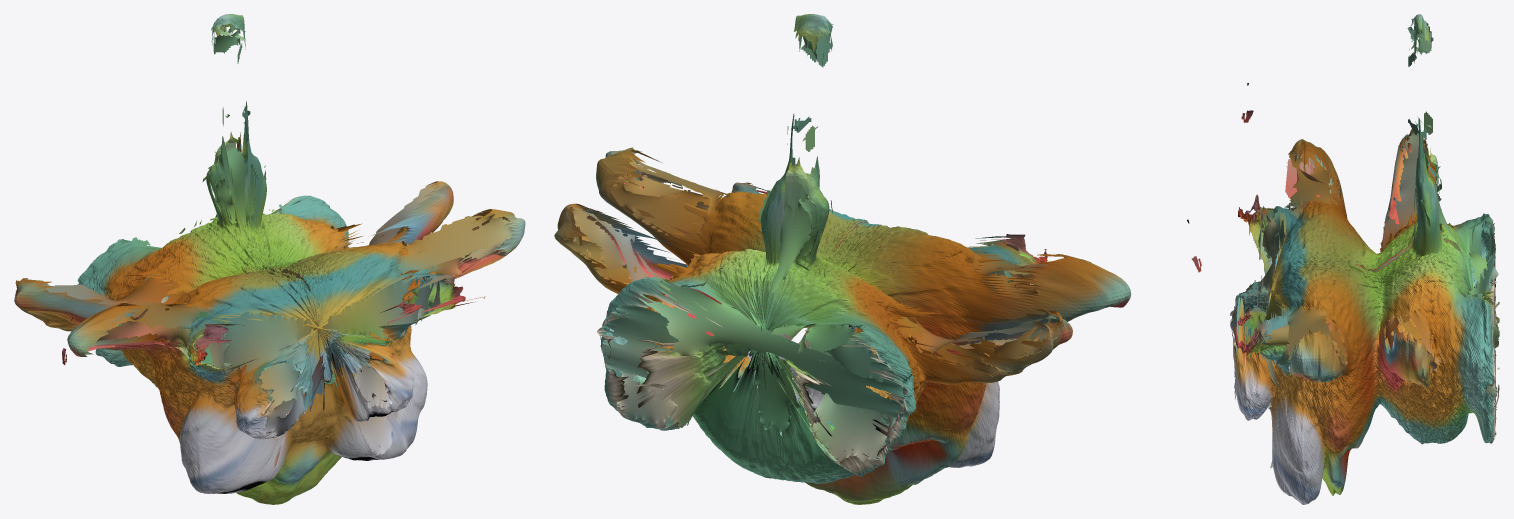
The model's file is guess_mesh.glb.
3 renders of one model, left to right at view 1: azimuth 30°, elevation 25°; view 2: azimuth 150°, elevation 25°; view 3: azimuth 270°, elevation 25°, orthographic. The views are drawn at different scales.
Visible parts, largest first — view 1: ipn, fill; view 2: ipn, fill; view 3: ipn, fill.
Part boxes in pixels (box(x1,y1,x2,y2)): ipn: box(14, 14, 525, 504); fill: box(15, 19, 513, 455); ipn: box(554, 14, 1201, 504); fill: box(562, 15, 1091, 462); ipn: box(1231, 14, 1495, 504); fill: box(1230, 15, 1499, 468).
Bounding box in the file's own units: 1.81 × 1.63 × 0.8531.
Materials: 2 (1 with a texture image).
